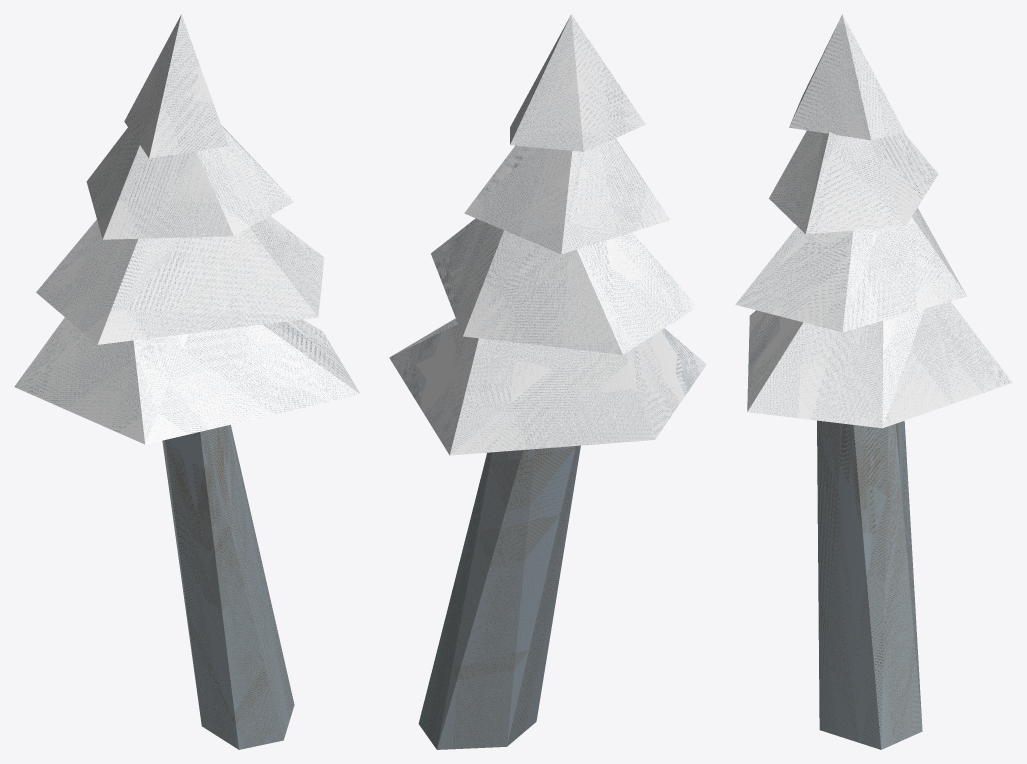
File: Tree_Pine_Snow_Tall_02.fbx
3 renders of one model, left to right at view 1: azimuth 30°, elevation 25°; view 2: azimuth 150°, elevation 25°; view 3: azimuth 270°, elevation 25°, orthographic. The views are drawn at different scales.
Parts seen in each view (by area): view 1: Model; view 2: Model; view 3: Model.
Part boxes in pixels (x1=…): Model: x1=14, y1=14, x2=360, y2=749; Model: x1=389, y1=14, x2=706, y2=749; Model: x1=735, y1=14, x2=1012, y2=749.
Size of the model in its own units: 575 by 1403 by 522.
